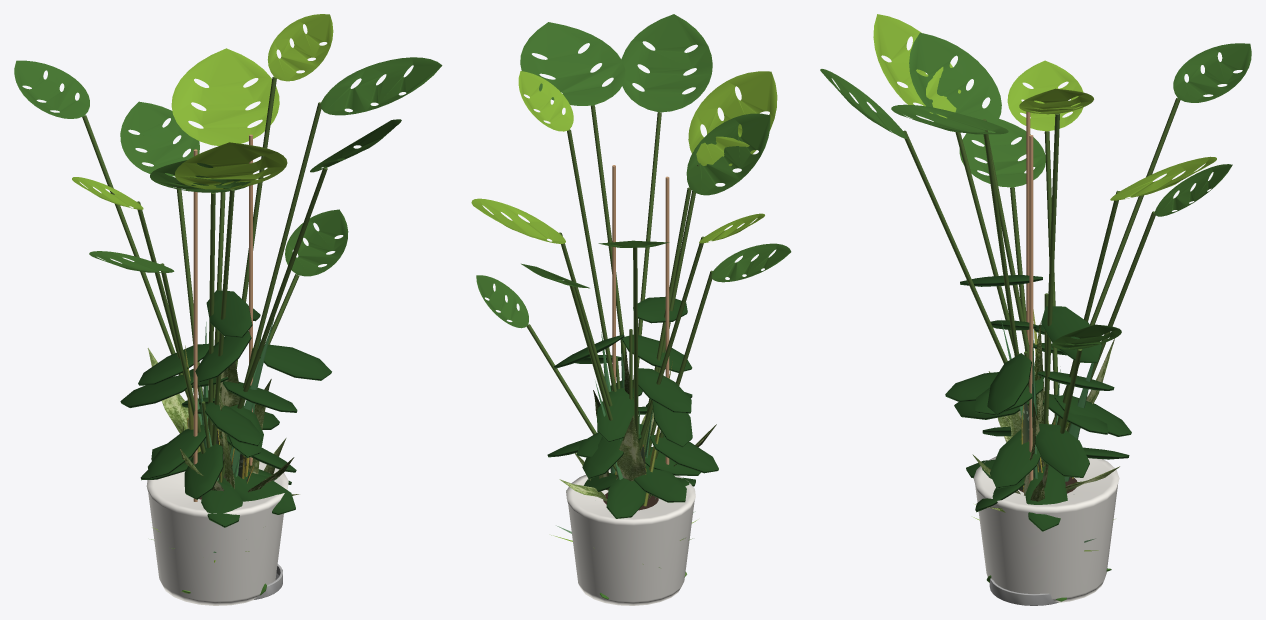
File: props-q.glb
3 renders of one model, left to right at view 1: azimuth 30°, elevation 25°; view 2: azimuth 150°, elevation 25°; view 3: azimuth 270°, elevation 25°, orthographic. The views are drawn at different scales.
Parts seen in each view (by area): view 1: monstera-leaf, monstera-solid, rubberPlant-leaf, marbleSnake-leaf, snakePlant-leaf; view 2: monstera-leaf, monstera-solid, rubberPlant-leaf, marbleSnake-leaf, snakePlant-leaf, rubberPlant-solid; view 3: monstera-solid, monstera-leaf, rubberPlant-leaf, marbleSnake-leaf, snakePlant-leaf, marbleSnake-solid.
Part boxes in pixels (bbox=[...]): monstera-leaf: bbox=[14, 14, 442, 276]; monstera-solid: bbox=[82, 76, 327, 605]; rubberPlant-leaf: bbox=[120, 290, 331, 527]; marbleSnake-leaf: bbox=[147, 348, 299, 495]; snakePlant-leaf: bbox=[185, 318, 274, 480]; monstera-leaf: bbox=[471, 14, 791, 328]; monstera-solid: bbox=[526, 105, 712, 605]; rubberPlant-leaf: bbox=[547, 296, 718, 518]; marbleSnake-leaf: bbox=[559, 347, 716, 501]; snakePlant-leaf: bbox=[595, 332, 672, 506]; rubberPlant-solid: bbox=[616, 329, 656, 455]; monstera-solid: bbox=[903, 98, 1180, 602]; monstera-leaf: bbox=[820, 14, 1251, 349]; rubberPlant-leaf: bbox=[945, 275, 1131, 531]; marbleSnake-leaf: bbox=[972, 322, 1119, 512]; snakePlant-leaf: bbox=[1001, 309, 1094, 481]; marbleSnake-solid: bbox=[989, 578, 1058, 605].
Bounding box in the file's own units: 1.38 × 2.28 × 1.63.
Materials: 3 (1 with a texture image).
